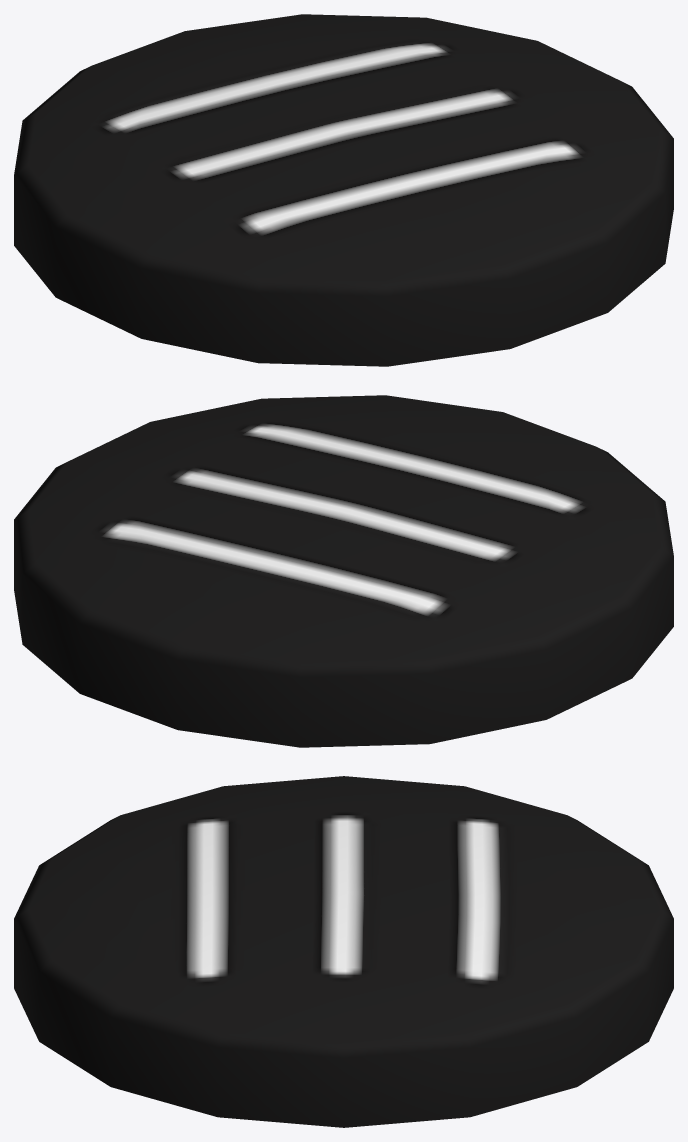
File: button.obj
The picture shows the model from 3 angles, top to bottom: view 1: azimuth 30°, elevation 25°; view 2: azimuth 150°, elevation 25°; view 3: azimuth 270°, elevation 25°; orthographic projection.
Visible parts, largest first — view 1: polySurface275_polySurface284; view 2: polySurface275_polySurface284; view 3: polySurface275_polySurface284.
Part boxes in pixels (<box>): polySurface275_polySurface284: <box>14,14,673,366</box>; polySurface275_polySurface284: <box>14,395,673,747</box>; polySurface275_polySurface284: <box>14,776,673,1127</box>.
Size of the model in its own units: 0.0122 by 0.00198 by 0.0122.
1 material, 1 textured.
